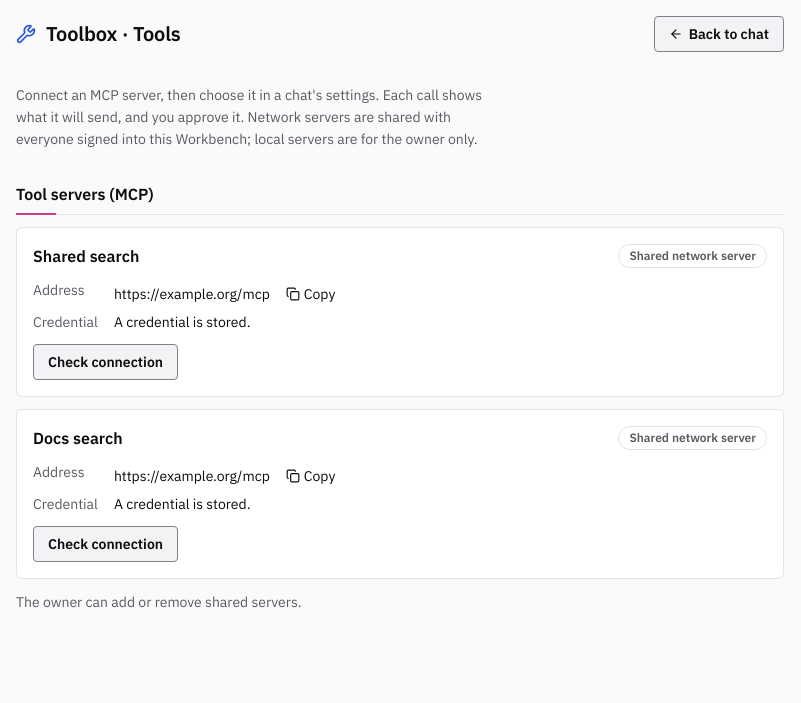
Test: a check that fails › is an alert in the card of the server it is about, and clears when checked again
Expected: the heading "Docs search" is shown, [33, 426, 123, 450]
Click the button with aria-label "Check connection to Docs search" at (106, 544), box [33, 526, 178, 562]
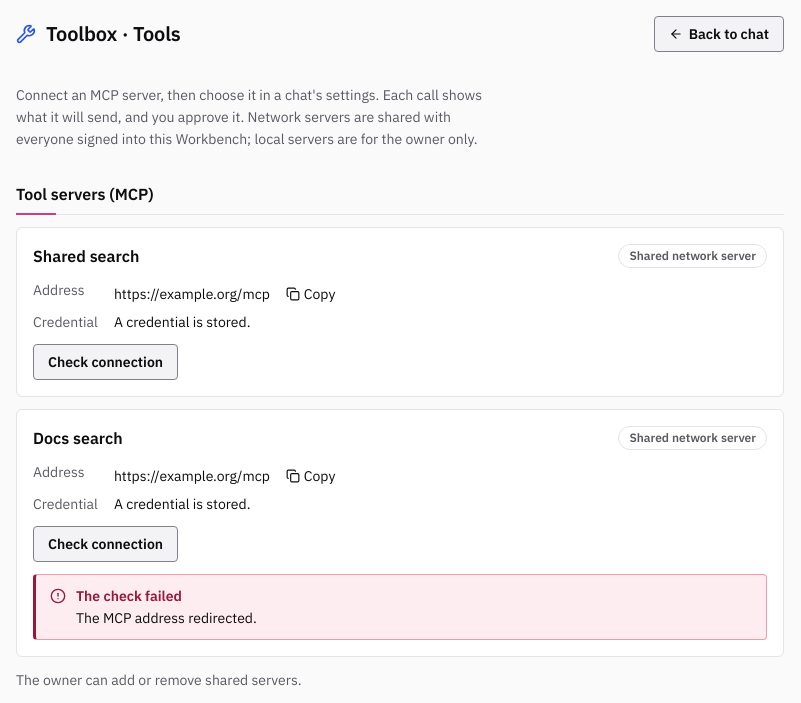
Now the message shows "The MCP address redirected.", box [76, 609, 257, 627]
Click the button with aria-label "Check connection to Docs search" at (106, 544), box [33, 526, 178, 562]
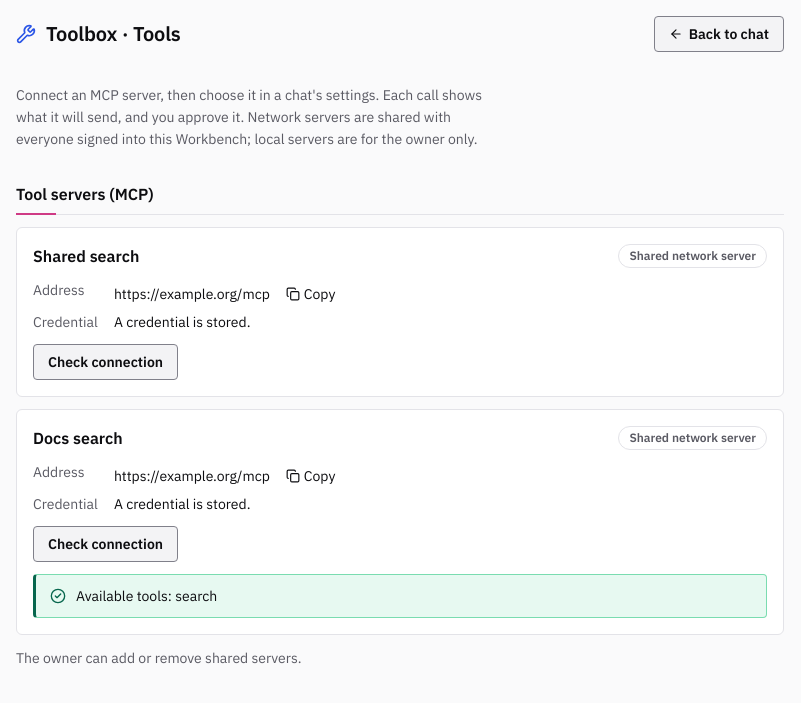
Now the text "Available tools: search" is shown, box [33, 574, 767, 618]
